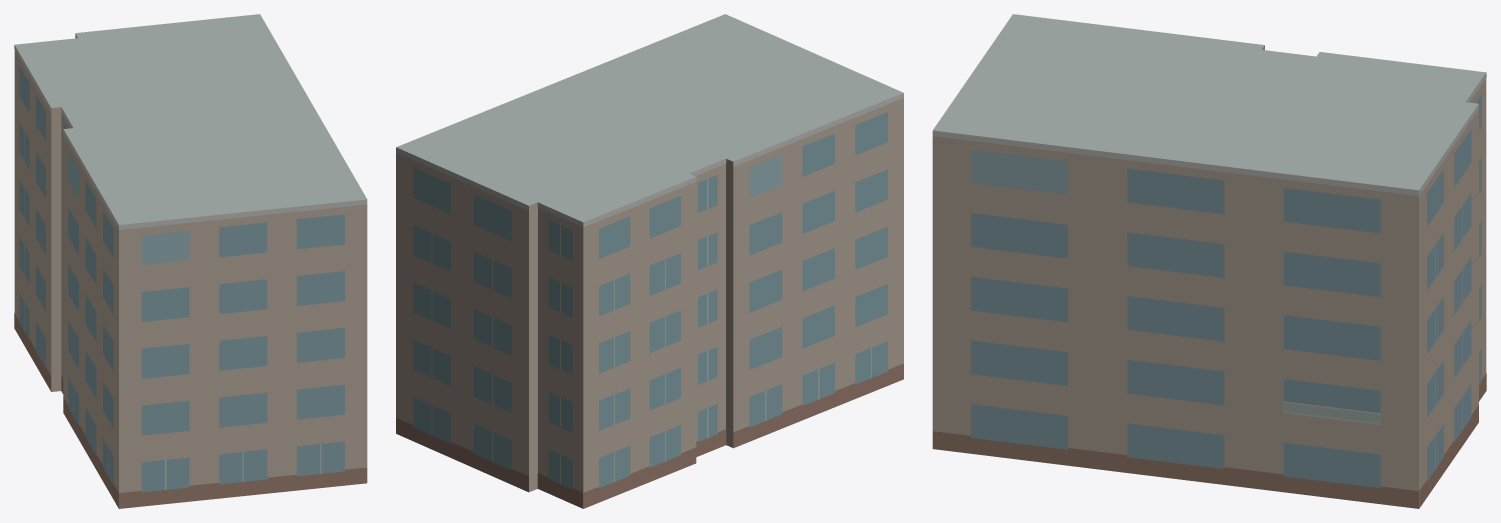
File: survey-upis-32554764.glb
The picture shows the model from 3 angles, left to right: view 1: azimuth 30°, elevation 25°; view 2: azimuth 150°, elevation 25°; view 3: azimuth 270°, elevation 25°; orthographic projection. The views are drawn at different scales.
Parts seen in each view (by area): view 1: survey-upis-32554764.tmp; view 2: survey-upis-32554764.tmp; view 3: survey-upis-32554764.tmp.
Boxes of the visible parts, x1=… form: survey-upis-32554764.tmp: x1=14, y1=14, x2=367, y2=508; survey-upis-32554764.tmp: x1=396, y1=14, x2=903, y2=508; survey-upis-32554764.tmp: x1=932, y1=14, x2=1486, y2=508.
Size of the model in its own units: 16.22 by 13.65 by 21.52.
